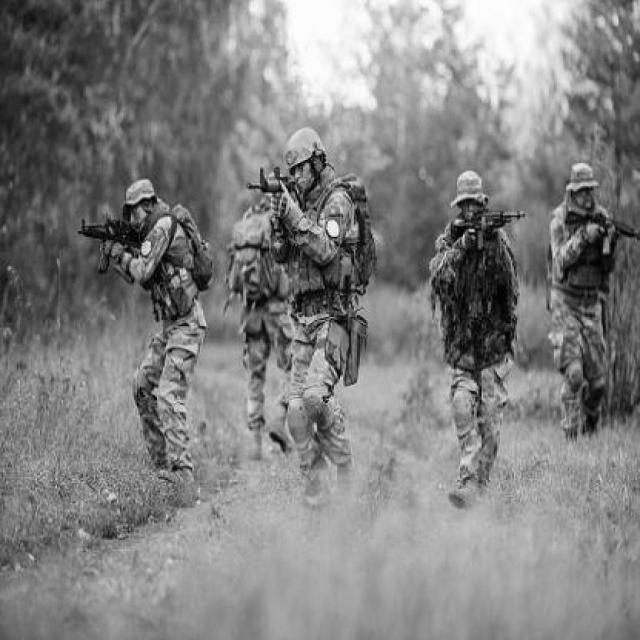weapon: (447, 207, 527, 256), (564, 206, 639, 257), (76, 216, 136, 269), (249, 164, 293, 210)
